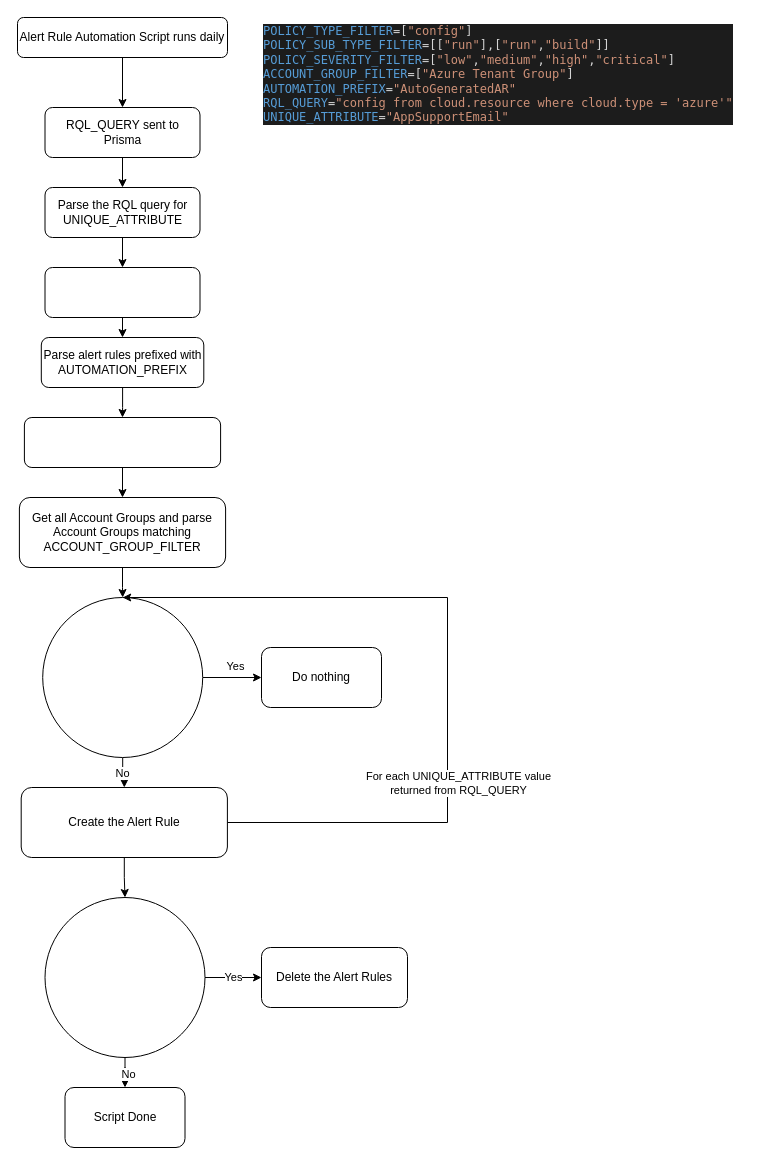
Image size: 779x1165. Some labels were removed from this diagram. Each missing label, with the box of its shape:
Does a UNIQUER_ATTRIBUTE value no longer exist for Alert Rules?: (44, 896, 205, 1058)
Does an Alert Rule Exist for the UNIQUE_ATTRIBUTE value?: (42, 596, 203, 758)
Get all Policies and parse Policies with POLICY_*_FILTER: (23, 416, 221, 468)
Get existing Alert Rules in Prisma: (44, 266, 200, 318)
